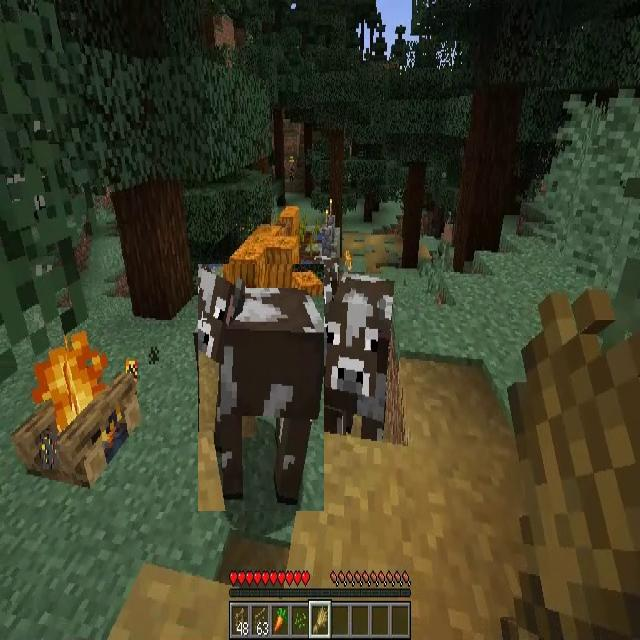cow: (198, 264, 324, 511), (324, 276, 394, 443)
